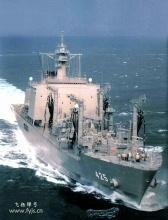warship: (9, 30, 163, 203)
